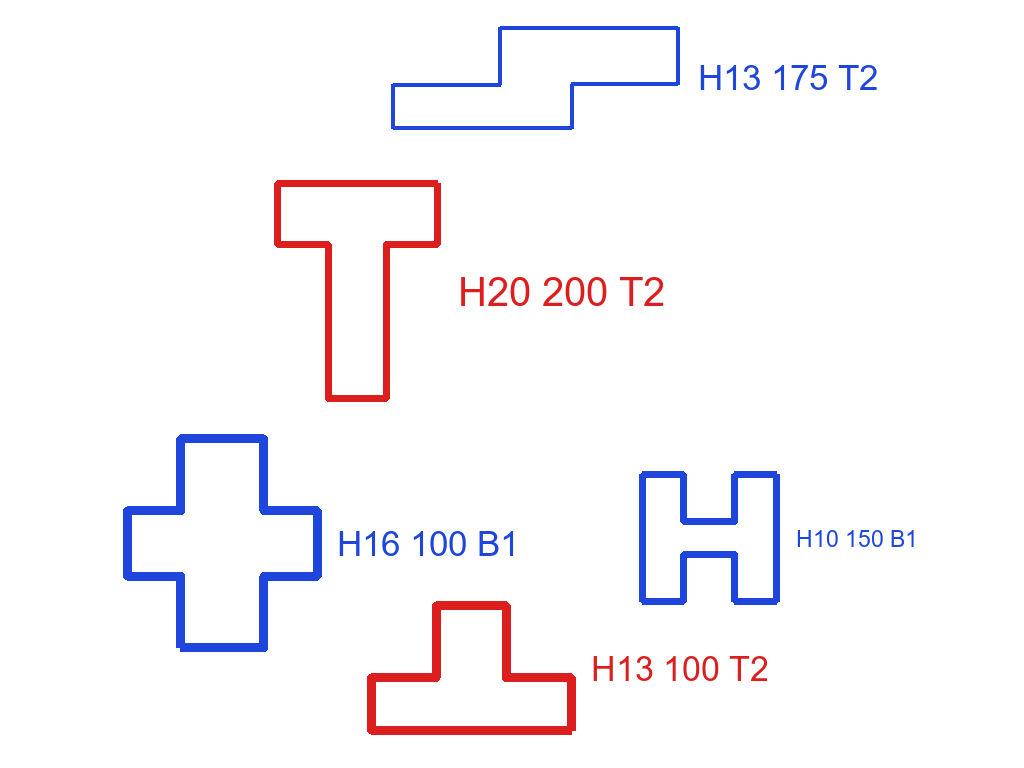shape: (121, 432, 324, 654), (272, 178, 443, 404), (390, 23, 682, 132), (365, 599, 578, 737), (637, 469, 782, 607)
text: (456, 275, 667, 308), (335, 529, 521, 558), (696, 63, 880, 92), (589, 654, 771, 683), (794, 528, 920, 549)
